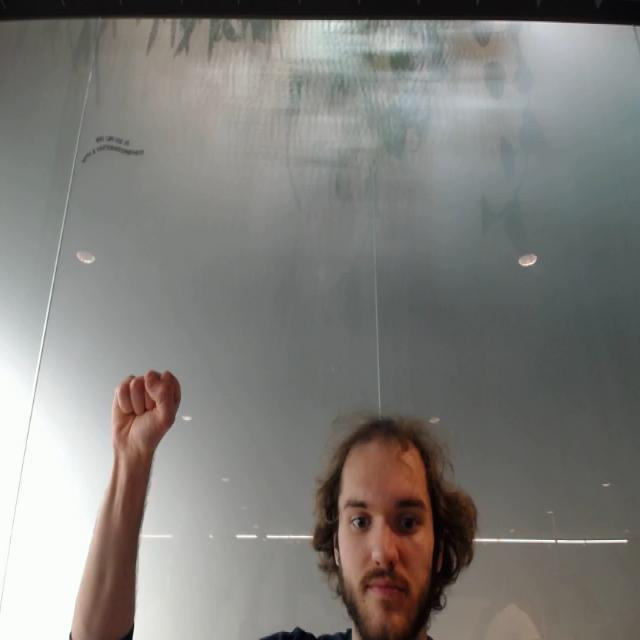stop: (107, 362, 187, 461)
